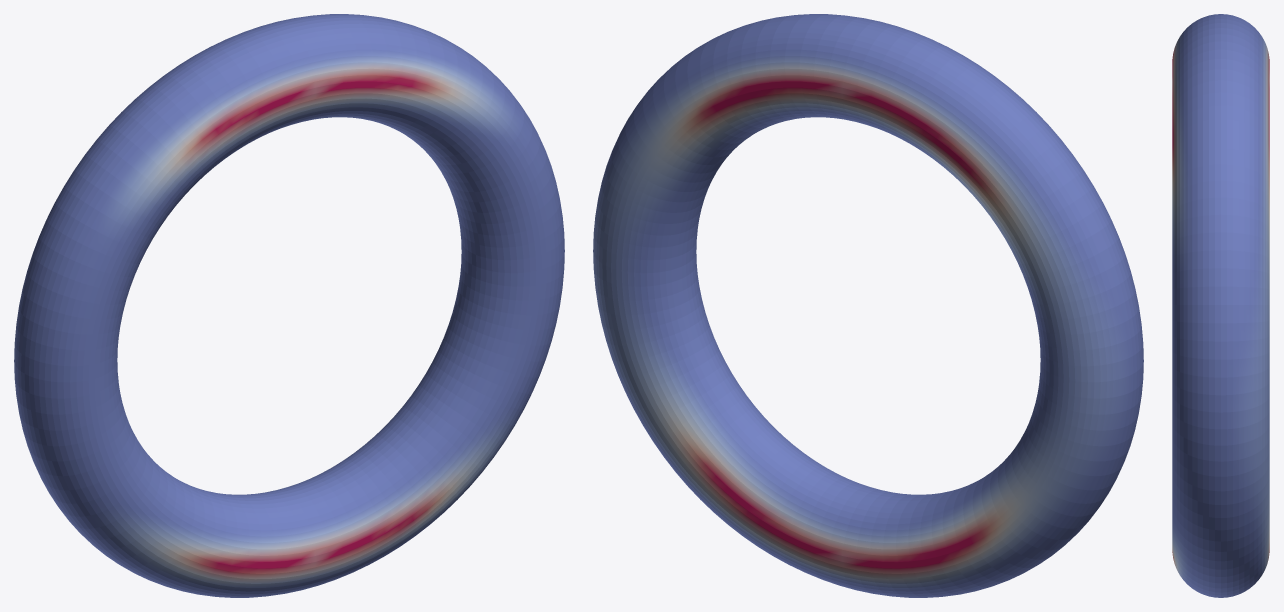
The picture shows the model from 3 angles, left to right: view 1: azimuth 30°, elevation 25°; view 2: azimuth 150°, elevation 25°; view 3: azimuth 270°, elevation 25°; orthographic projection. The views are drawn at different scales.
Visible parts, largest first — view 1: world; view 2: world; view 3: world.
Part boxes in pixels (x1,y1,x2,y2): world: (14, 14, 564, 597); world: (593, 14, 1143, 597); world: (1172, 14, 1269, 597).
Bounding box in the file's own units: 17.33 × 17.33 × 2.88.
